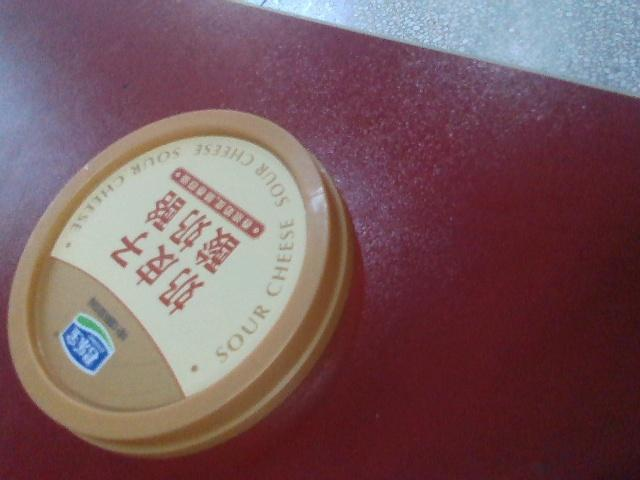lid: (3, 107, 397, 461)
